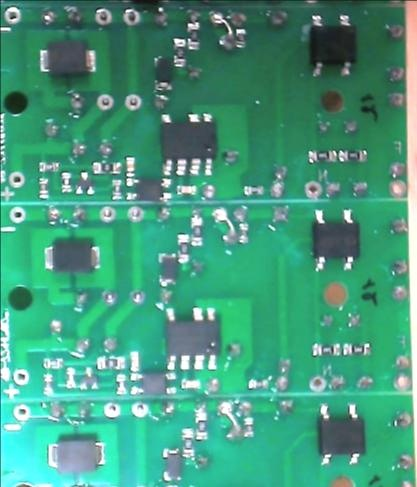chip-capacitor: (175, 183, 197, 196), (129, 349, 141, 372), (179, 377, 200, 390), (126, 155, 136, 176)
chip-resistor: (94, 355, 126, 371), (310, 342, 341, 358), (171, 37, 187, 68), (342, 341, 372, 357), (91, 160, 121, 176), (307, 148, 337, 164), (338, 147, 368, 163), (186, 20, 201, 51), (176, 232, 190, 264), (194, 412, 209, 441), (189, 216, 203, 246), (181, 427, 194, 458), (41, 372, 54, 396), (60, 170, 72, 195), (242, 416, 255, 439), (114, 373, 127, 396), (246, 377, 269, 390), (37, 161, 60, 174), (109, 178, 122, 201), (37, 177, 49, 200), (242, 184, 265, 196), (235, 26, 247, 49), (41, 356, 62, 369), (65, 366, 76, 389), (238, 222, 249, 244)
diode: (45, 437, 106, 474), (38, 39, 97, 77), (43, 237, 101, 274), (160, 447, 183, 483), (157, 251, 178, 287), (151, 55, 172, 91)
ic: (158, 110, 218, 179), (164, 304, 222, 371), (315, 400, 367, 467), (310, 206, 361, 272), (308, 12, 357, 77), (128, 370, 177, 396), (124, 176, 172, 202)
transistor: (73, 170, 95, 196), (77, 366, 98, 393)
